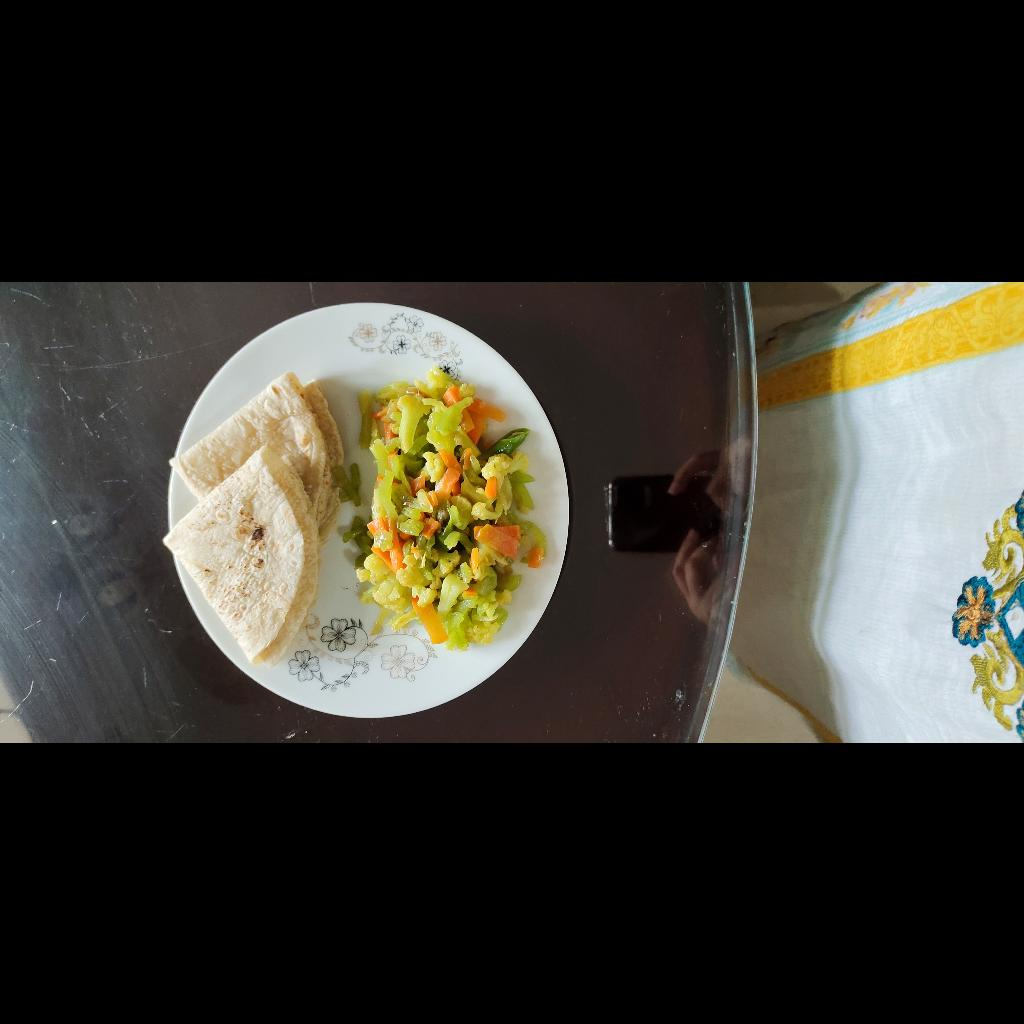ruti: (75, 439, 373, 619)
vegetable: (89, 618, 381, 828)
